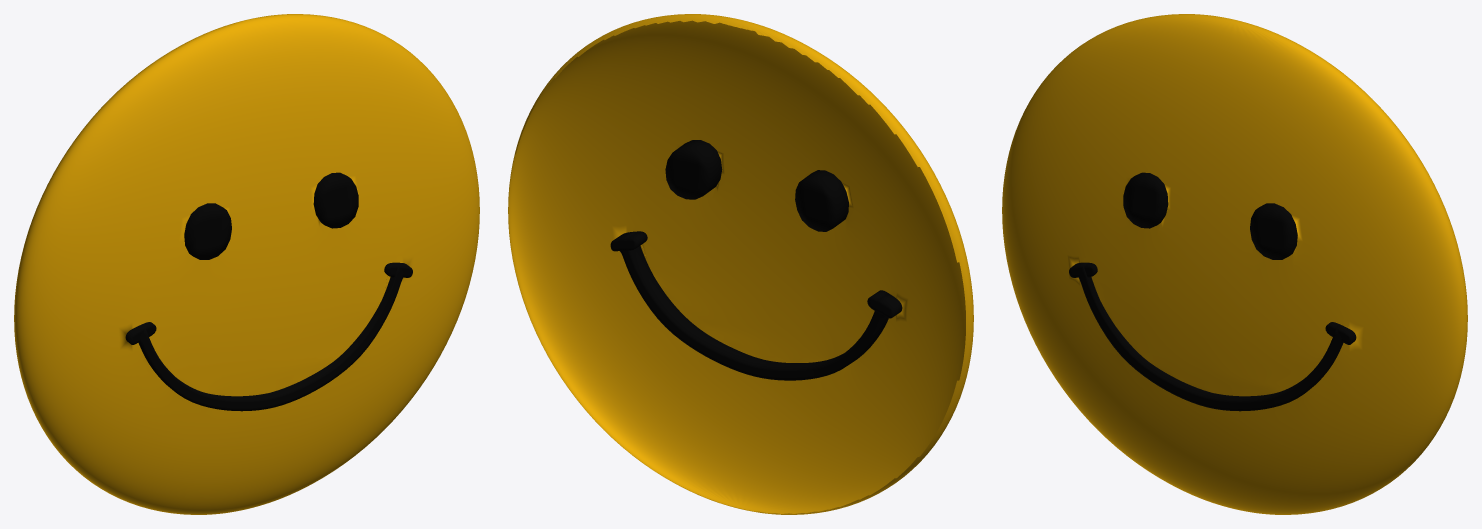
File: smile.gltf
The picture shows the model from 3 angles, left to right: view 1: azimuth 30°, elevation 25°; view 2: azimuth 150°, elevation 25°; view 3: azimuth 330°, elevation 25°; orthographic projection.
Parts seen in each view (by area): view 1: Sphere, Sphere.004, Sphere.003; view 2: Sphere, Sphere.004, Sphere.003; view 3: Sphere, Sphere.004, Sphere.003.
Part boxes in pixels (box(x1,y1,x2,y2)): Sphere: box(14, 14, 479, 514); Sphere.004: box(125, 262, 412, 411); Sphere.003: box(184, 172, 358, 259); Sphere: box(508, 14, 973, 514); Sphere.004: box(610, 231, 902, 380); Sphere.003: box(665, 140, 848, 231); Sphere: box(1002, 14, 1467, 514); Sphere.004: box(1069, 262, 1356, 411); Sphere.003: box(1123, 172, 1297, 259).
Size of the model in its own units: 0.1509 by 0.1522 by 0.0185.
